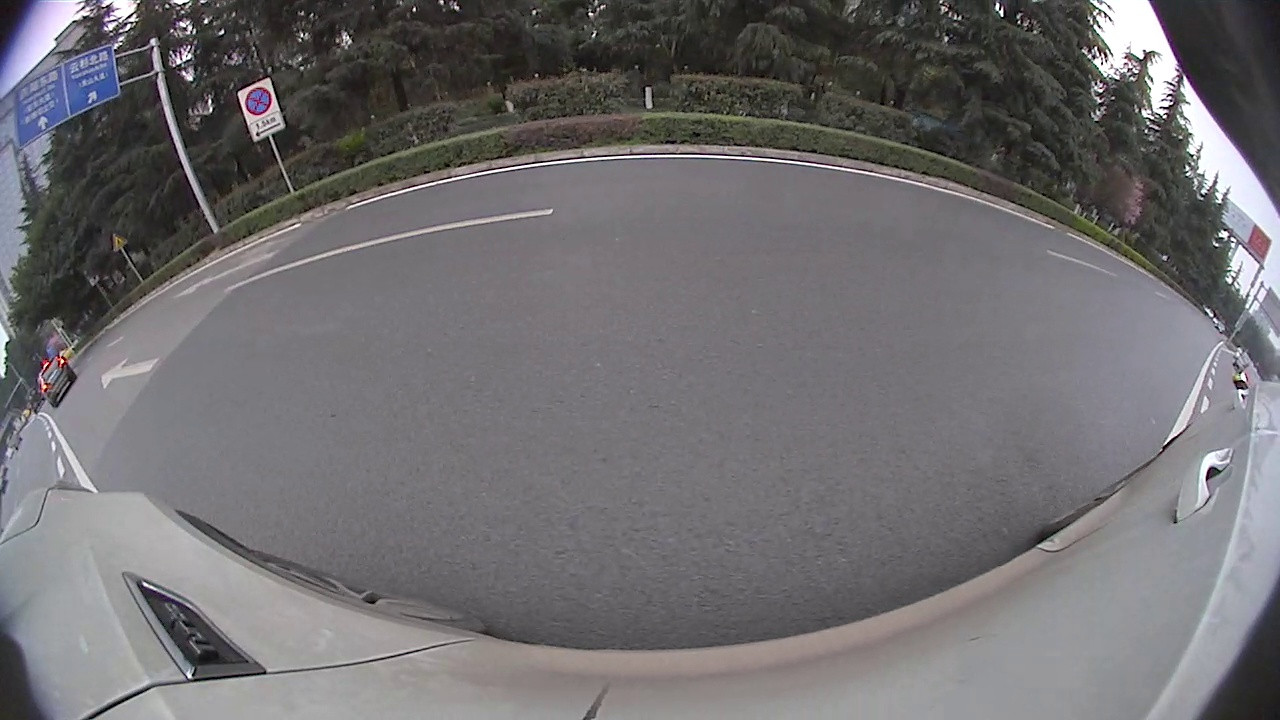bus: (746, 0, 1270, 403)
car: (0, 114, 416, 503), (543, 98, 792, 266), (439, 157, 542, 222)
front: (346, 215, 412, 303)
rear: (903, 208, 971, 294), (510, 185, 522, 213)
